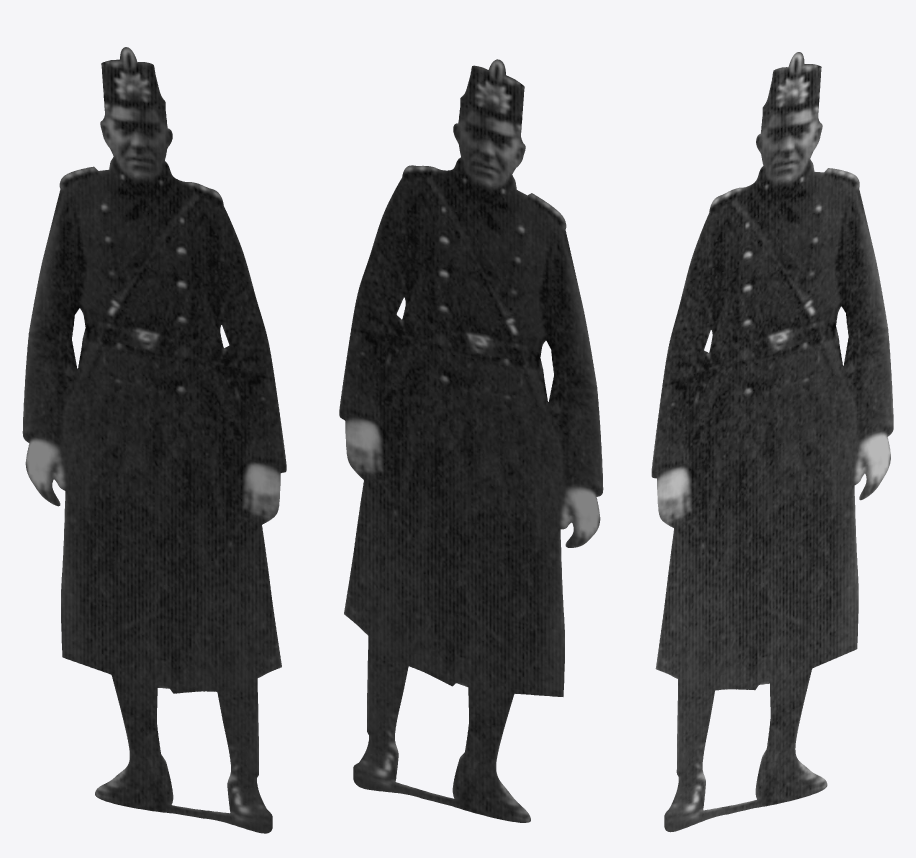
The model's file is Policeman001.FBX.
3 views of the same model, side by side, from view 1: azimuth 30°, elevation 25°; view 2: azimuth 210°, elevation 25°; view 3: azimuth 270°, elevation 25° (orthographic).
Parts seen in each view (by area): view 1: Policeman001; view 2: Policeman001; view 3: Policeman001.
Boxes of the visible parts, x1=… form: Policeman001: x1=22, y1=47, x2=286, y2=833; Policeman001: x1=339, y1=59, x2=603, y2=822; Policeman001: x1=651, y1=52, x2=893, y2=832.
Bounding box in the file's own units: 41.26 × 200 × 62.49.
1 material, 1 textured.
